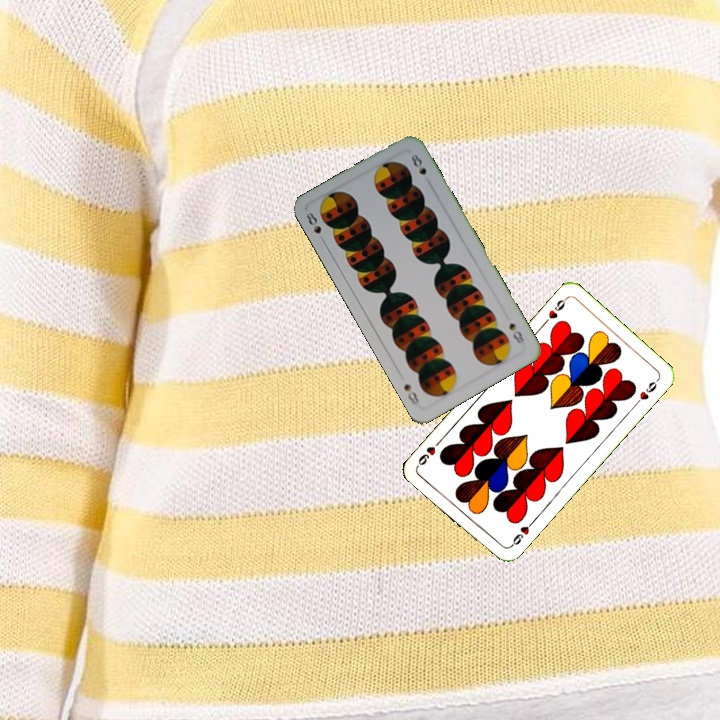H9: (539, 294, 570, 327), (506, 517, 537, 550)
S8: (302, 208, 328, 246), (505, 318, 527, 346)
